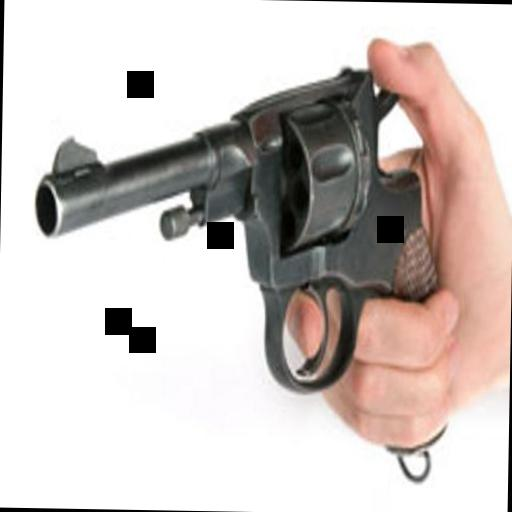Handgun: (26, 56, 464, 484)
